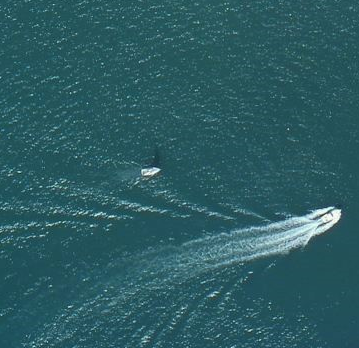ship: (302, 206, 348, 230), (138, 164, 164, 181)
